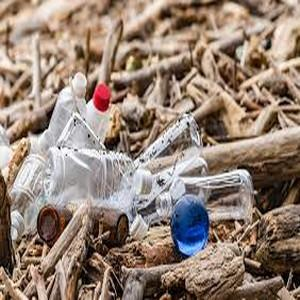Plastic: (44, 147, 153, 209), (9, 150, 52, 234)
